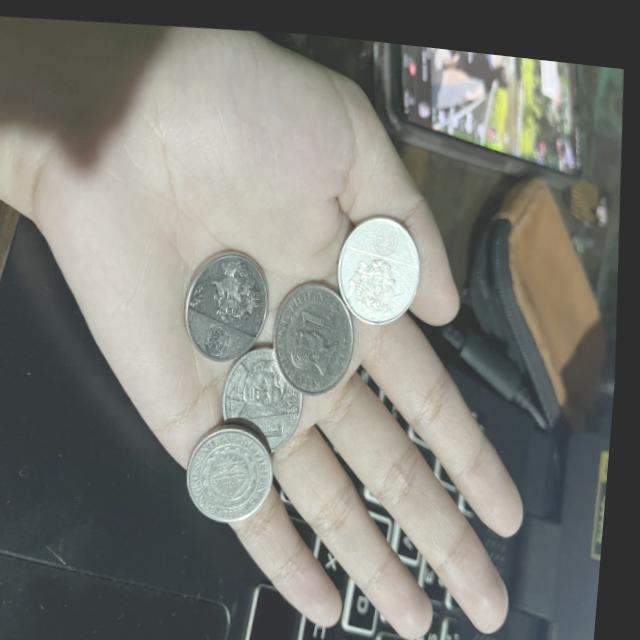1_New_Back: (195, 247, 274, 327), (343, 242, 415, 317)
1_New_Front: (241, 411, 301, 447)
1_Old_Back: (189, 419, 285, 519)
1_Old_Front: (294, 291, 350, 345)
